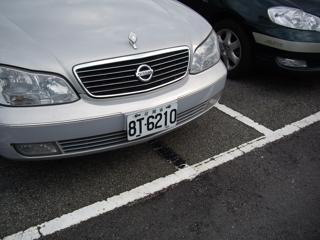plate: (125, 106, 179, 138)
